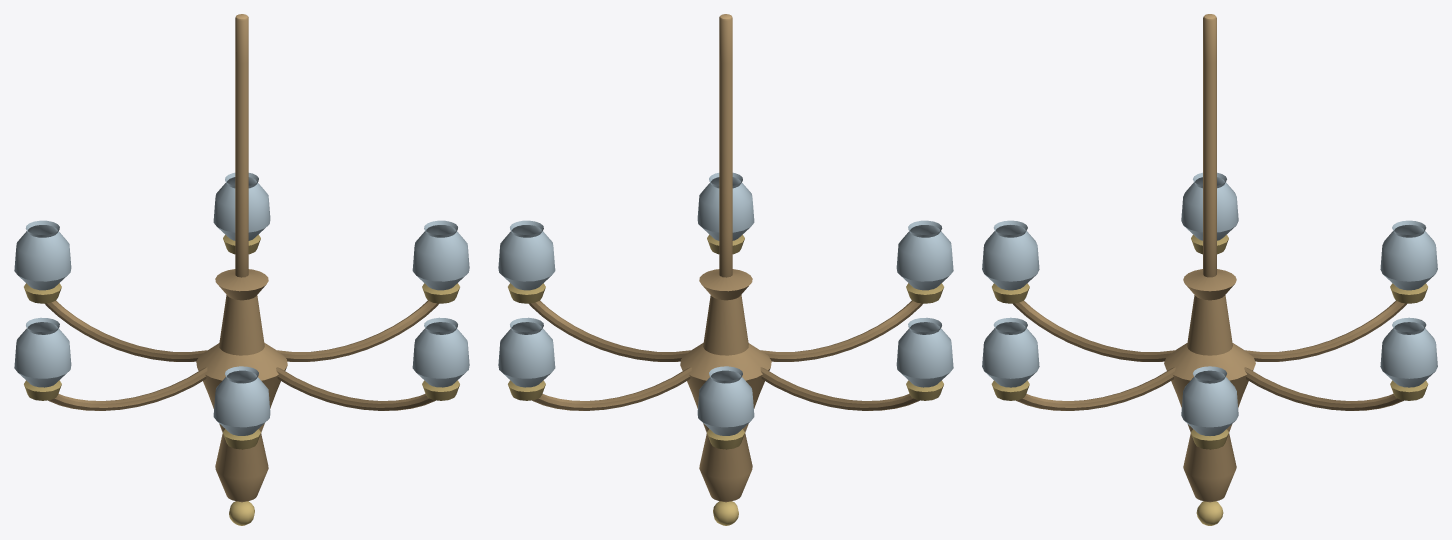
File: obj_kit_gaschandelier.glb
3 views of the same model, side by side, from view 1: azimuth 30°, elevation 25°; view 2: azimuth 150°, elevation 25°; view 3: azimuth 270°, elevation 25° (orthographic).
Visible parts, largest first — view 1: body, Cylinder, globe.002, globe, globe.003, globe.004, globe.005, globe.001, arm.002, arm, arm.005, arm.003 (+1 smaller); view 2: body, Cylinder, globe.004, globe, globe.003, globe.001, globe.002, globe.005, arm.004, arm, arm.001, arm.003 (+1 smaller); view 3: body, Cylinder, globe.001, globe.005, globe, globe.002, globe.004, globe.003, arm.002, arm.004, arm.001, arm.005 (+1 smaller).
Boxes of the visible parts, x1,y1,x2,y2 form: body: (196, 269, 287, 502); Cylinder: (235, 14, 248, 277); globe.002: (14, 220, 71, 290); globe: (412, 220, 469, 290); globe.003: (14, 317, 71, 387); globe.004: (213, 366, 270, 435); globe.005: (412, 317, 469, 387); globe.001: (213, 172, 270, 240); arm.002: (45, 301, 207, 361); arm: (277, 301, 438, 361); arm.005: (276, 367, 435, 410); arm.003: (48, 367, 207, 410); body: (680, 269, 771, 502); Cylinder: (719, 14, 732, 277); globe.004: (896, 220, 953, 290); globe: (498, 220, 555, 290); globe.003: (896, 317, 953, 387); globe.001: (498, 317, 555, 387); globe.002: (697, 366, 754, 435); globe.005: (697, 172, 754, 240); arm.004: (760, 301, 922, 361); arm: (529, 301, 690, 361); arm.001: (532, 367, 691, 410); arm.003: (760, 367, 919, 410); body: (1164, 269, 1255, 502); Cylinder: (1203, 14, 1216, 277); globe.001: (1380, 317, 1437, 387); globe.005: (982, 317, 1039, 387); globe: (1181, 366, 1238, 435); globe.002: (1380, 220, 1437, 290); globe.004: (982, 220, 1039, 290); globe.003: (1181, 172, 1238, 240); arm.002: (1244, 300, 1406, 361); arm.004: (1013, 300, 1175, 361); arm.001: (1244, 367, 1403, 410); arm.005: (1016, 367, 1175, 410).
Size of the model in its own units: 1.35 by 1.47 by 1.19.
